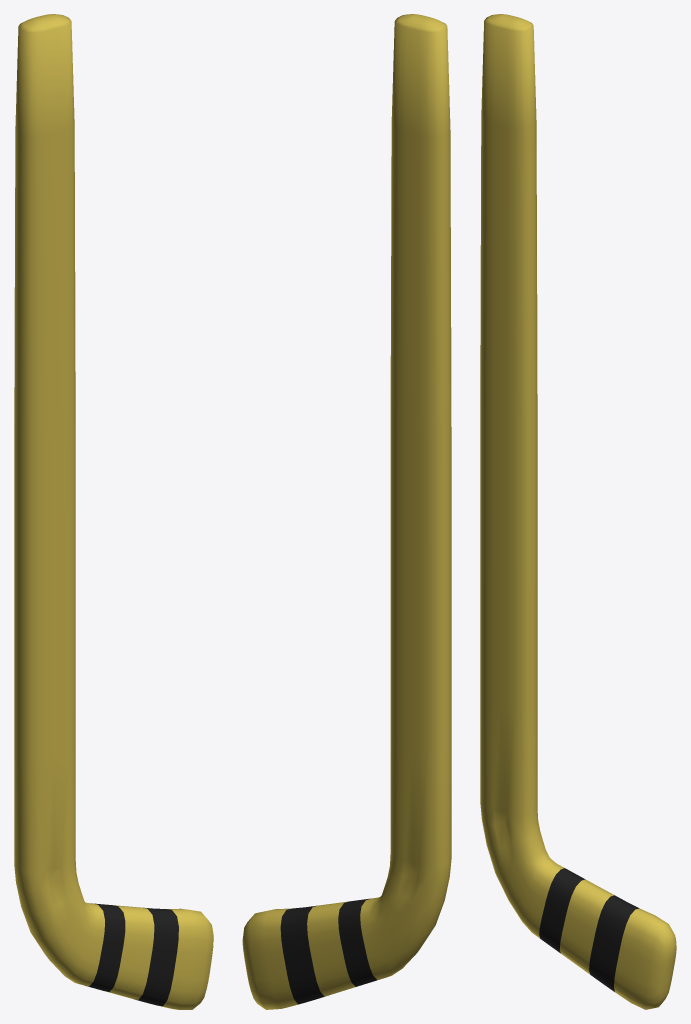
Rendered from HockeyBat.fbx.
3 views of the same model, side by side, from view 1: azimuth 30°, elevation 25°; view 2: azimuth 150°, elevation 25°; view 3: azimuth 330°, elevation 25° (orthographic). The views are drawn at different scales.
Parts seen in each view (by area): view 1: Plane; view 2: Plane; view 3: Plane.
Part boxes in pixels (x1,y1,x2,y2): Plane: (14,14,213,1009); Plane: (242,14,451,1009); Plane: (480,14,676,1009).
Size of the model in its own units: 20.43 by 101 by 4.48.
